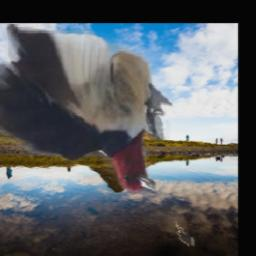Cuckoo: (175, 221, 195, 247)
Woodpecker: (0, 24, 173, 202)
